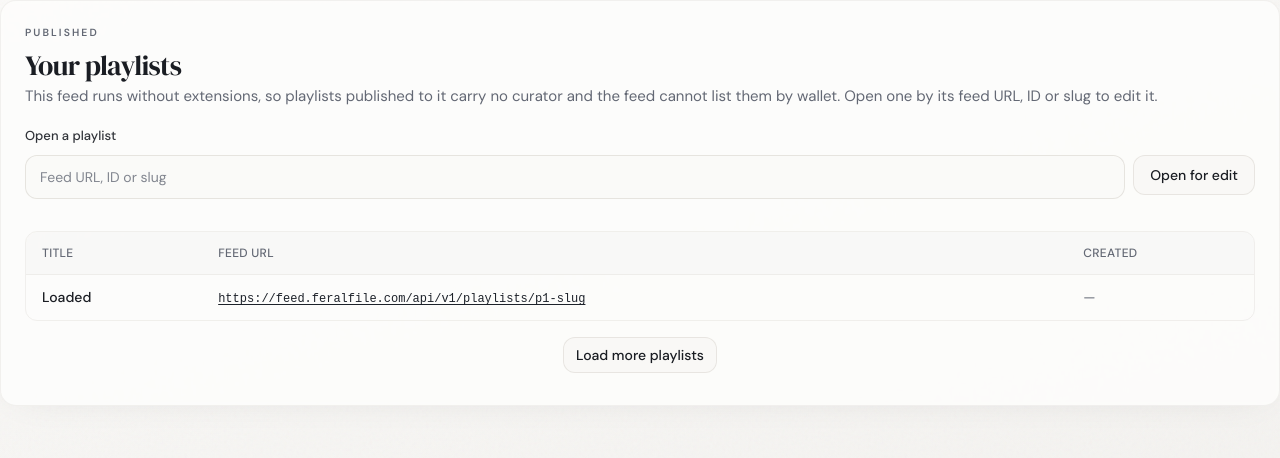
Test: PublishedView — feed-backed lists › keeps loaded rows and flags the list when a later page fails
Click the button "Load more playlists" at (640, 355), box [563, 337, 717, 373]
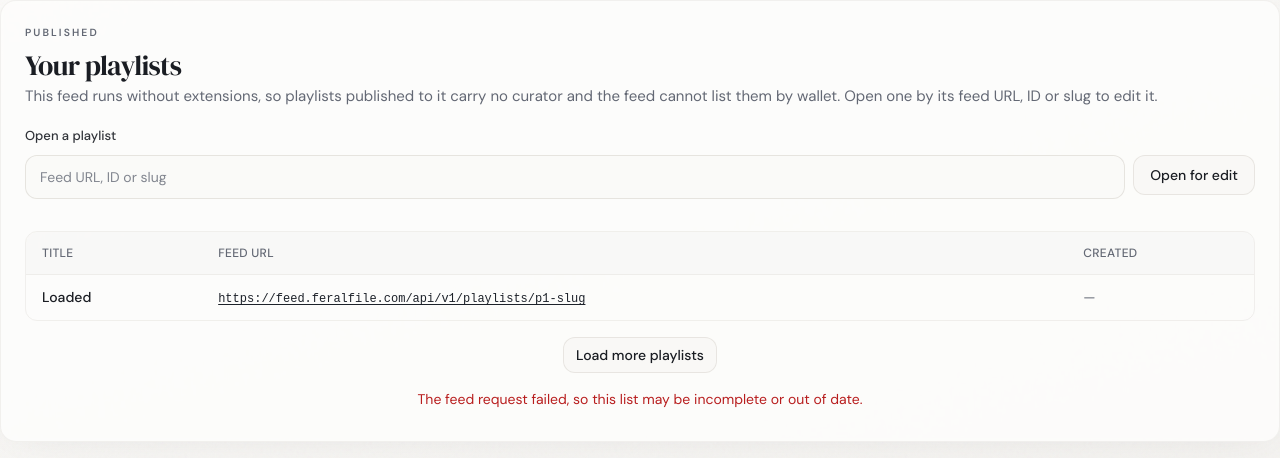
Expected: the text "Loaded" is shown, [42, 288, 91, 306]
Now the text "list may be incomplete" is shown, box [418, 390, 862, 408]
